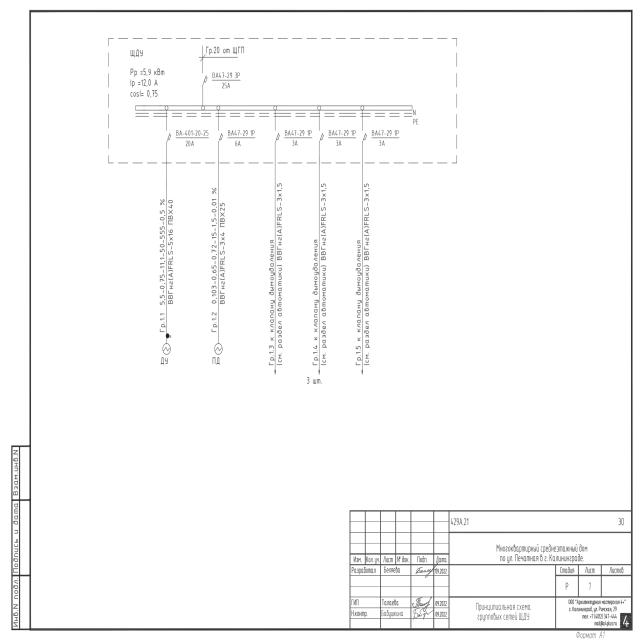-: (174, 128, 210, 147), (226, 129, 257, 149), (328, 127, 358, 147), (283, 128, 313, 148), (370, 128, 400, 147), (212, 71, 240, 89), (130, 47, 144, 59)
QF: (199, 67, 208, 88), (165, 128, 172, 144), (317, 128, 324, 144), (216, 128, 223, 144), (361, 128, 368, 144), (274, 129, 280, 145)
